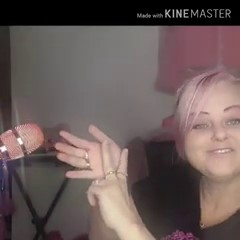V: (50, 118, 148, 233)
